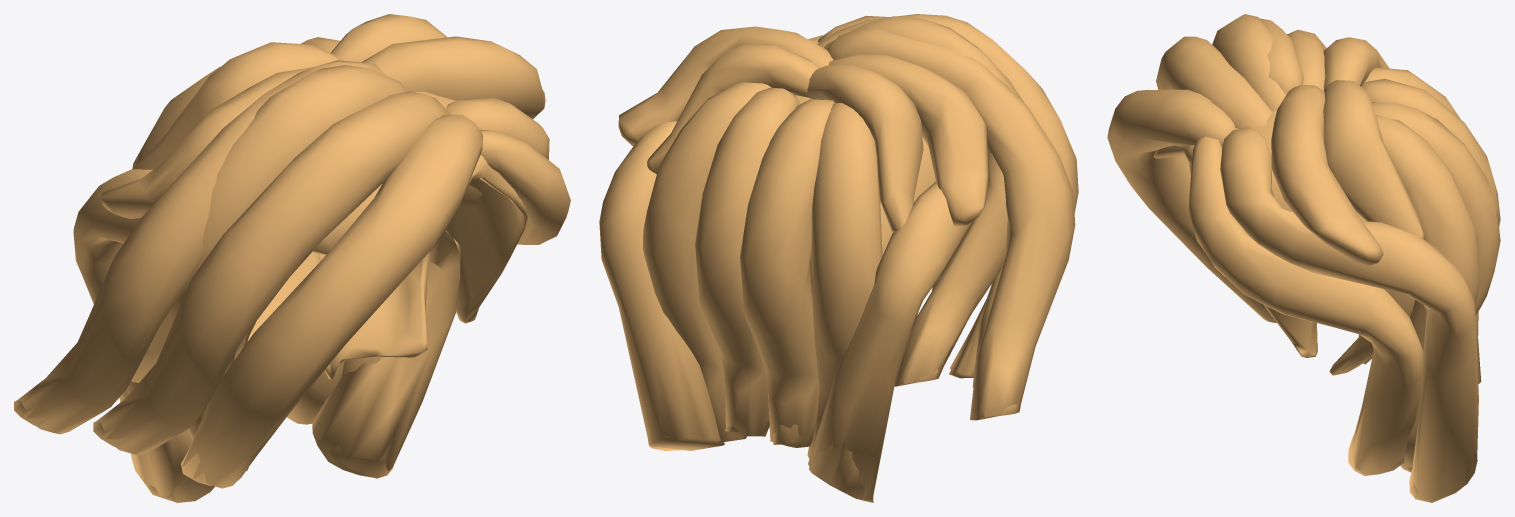
Rendered from hair-009-c7d17eb6.glb.
The picture shows the model from 3 angles, left to right: view 1: azimuth 30°, elevation 25°; view 2: azimuth 150°, elevation 25°; view 3: azimuth 270°, elevation 25°; orthographic projection. The views are drawn at different scales.
Parts seen in each view (by area): view 1: Geo_Female_White_Hair.011; view 2: Geo_Female_White_Hair.011; view 3: Geo_Female_White_Hair.011.
Boxes of the visible parts, x1,y1,x2,y2 form: Geo_Female_White_Hair.011: (14, 14, 570, 502); Geo_Female_White_Hair.011: (599, 14, 1078, 502); Geo_Female_White_Hair.011: (1107, 14, 1500, 502).
Size of the model in its own units: 2.65 by 2.48 by 2.18.
